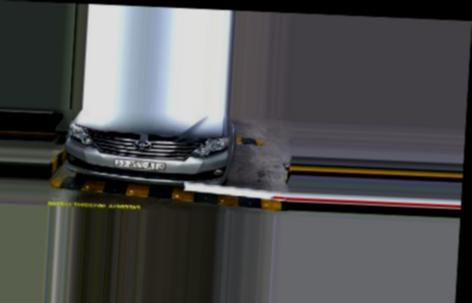License_Plate: (114, 158, 166, 174)
